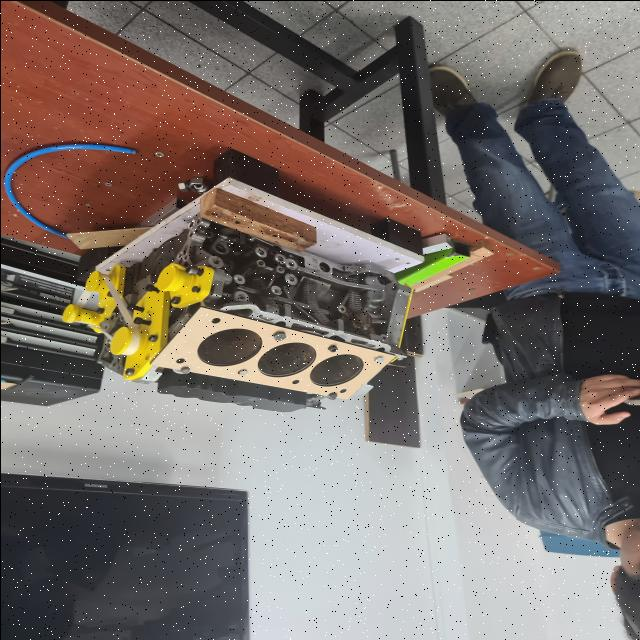vista1: (148, 306, 396, 399)
